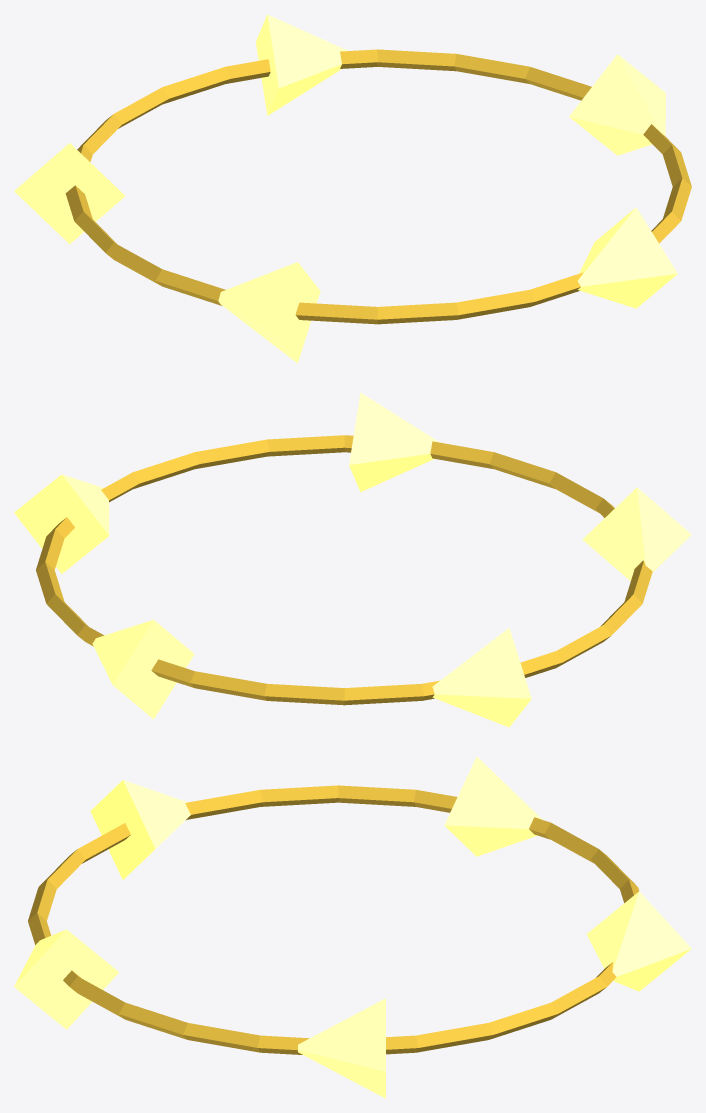
File: star_ring.glb
3 renders of one model, top to bottom at view 1: azimuth 30°, elevation 25°; view 2: azimuth 150°, elevation 25°; view 3: azimuth 270°, elevation 25°, orthographic.
Parts seen in each view (by area): view 1: star_ring; view 2: star_ring; view 3: star_ring.
Part boxes in pixels (left/top/right/bottom): star_ring: left=14, top=14, right=691, bottom=363; star_ring: left=14, top=392, right=691, bottom=727; star_ring: left=14, top=756, right=691, bottom=1098.
Bounding box in the file's own units: 0.8493 × 0.14 × 0.856.
